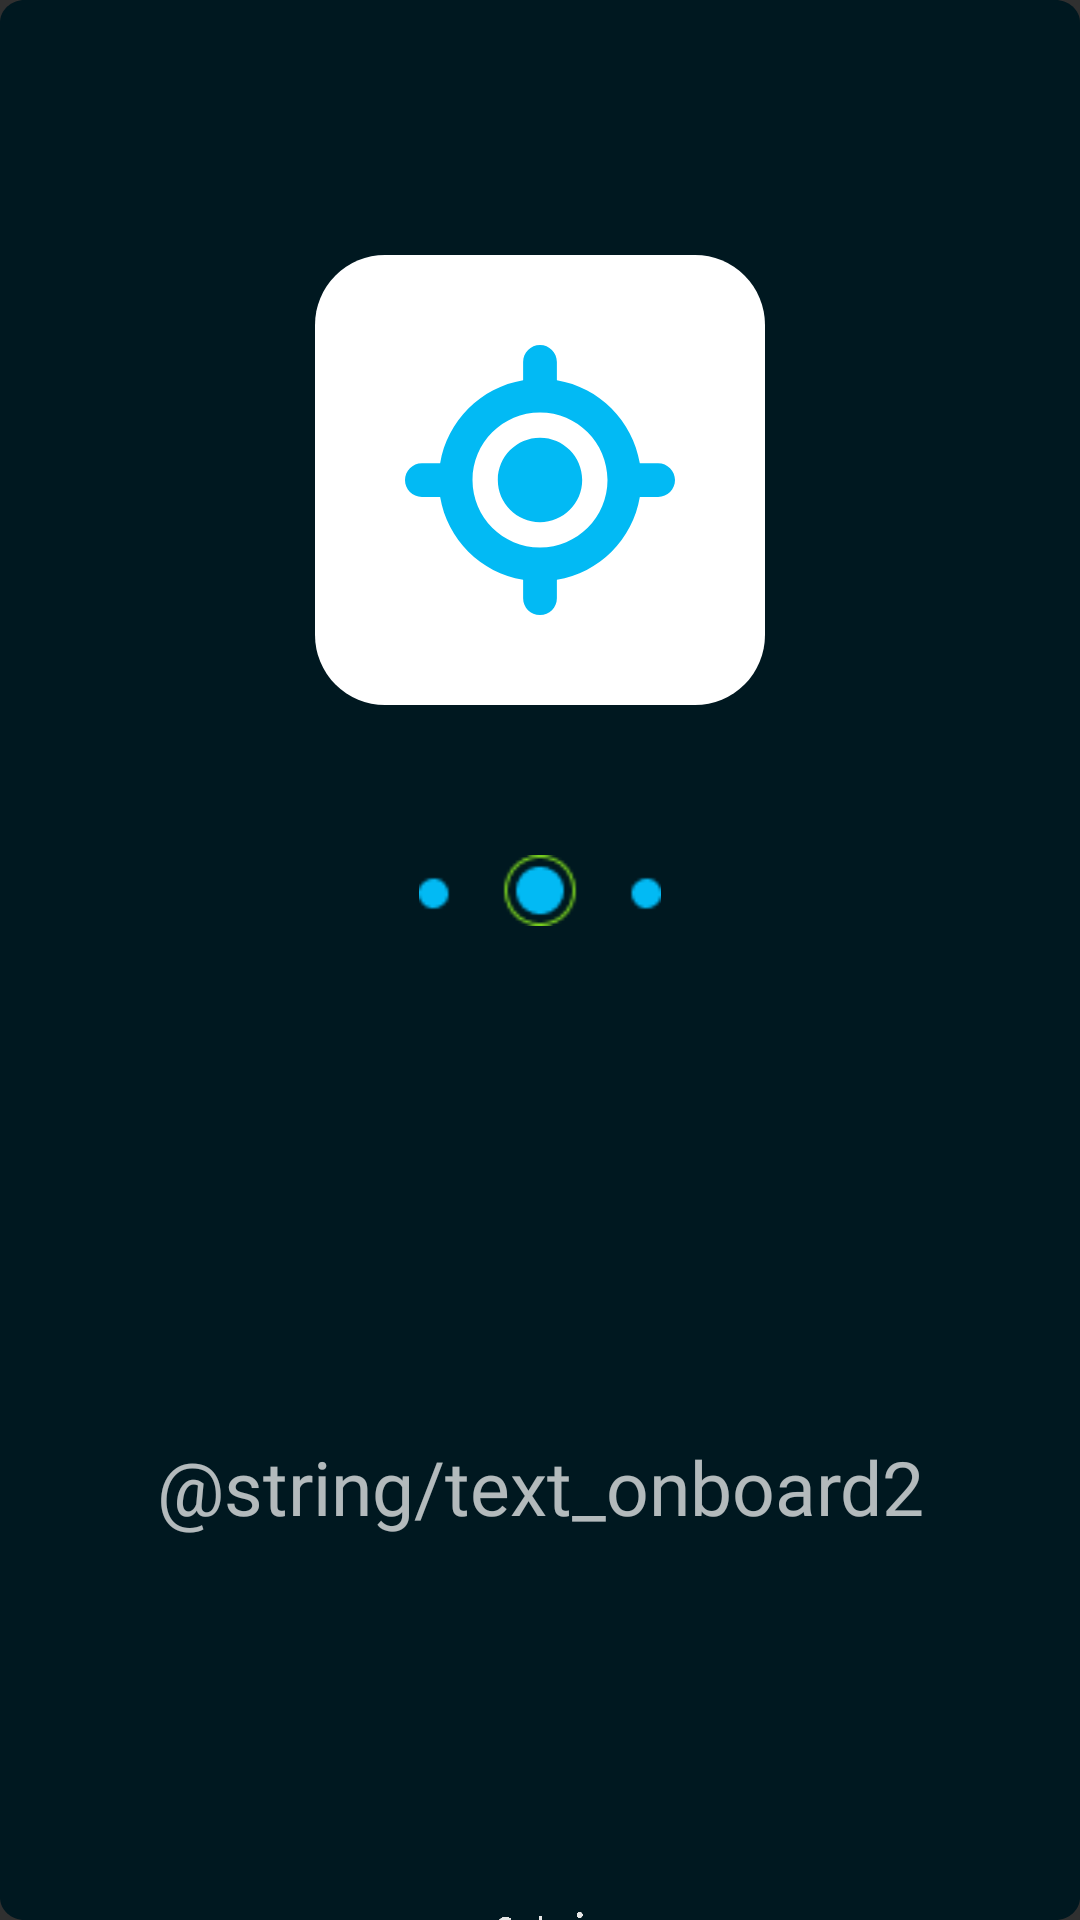

Point at icon controls on the screen. Image size 1080px×1920px, points as [x,y].
location crosshairs: [540,480]
